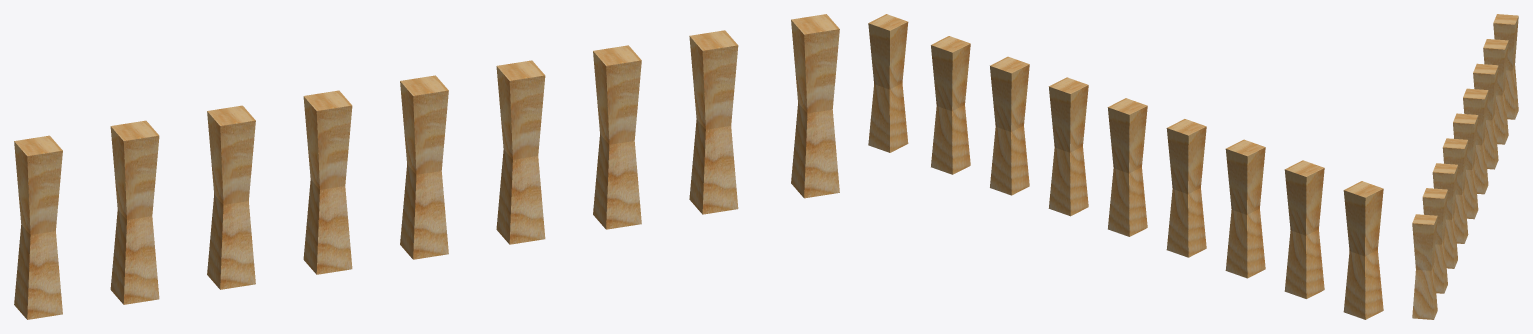
The model's file is cube.049_lev3.glb.
3 renders of one model, left to right at view 1: azimuth 30°, elevation 25°; view 2: azimuth 150°, elevation 25°; view 3: azimuth 270°, elevation 25°, orthographic. The views are drawn at different scales.
Parts seen in each view (by area): view 1: cube.049_lev3; view 2: cube.049_lev3; view 3: cube.049_lev3.
Boxes of the visible parts, box(x1,y1,x2,y2) form: cube.049_lev3: box(14, 14, 839, 319); cube.049_lev3: box(868, 14, 1383, 319); cube.049_lev3: box(1412, 14, 1518, 319).
Size of the model in its own units: 0.9102 by 0.1913 by 0.1942.
1 material, 1 textured.
